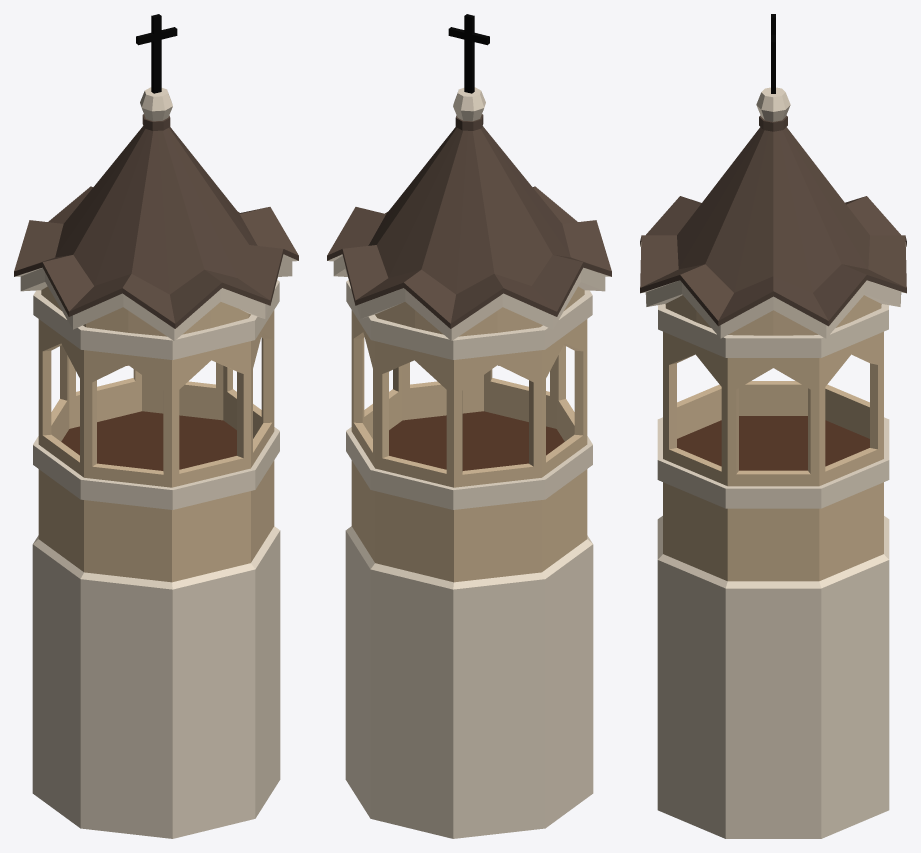
File: ChurchBellTower.glb
The picture shows the model from 3 angles, left to right: view 1: azimuth 30°, elevation 25°; view 2: azimuth 150°, elevation 25°; view 3: azimuth 270°, elevation 25°; orthographic projection.
Parts seen in each view (by area): view 1: ChurchTower; view 2: ChurchTower; view 3: ChurchTower.
Boxes of the visible parts, left/top/right/bottom form: ChurchTower: left=14, top=14, right=298, bottom=838; ChurchTower: left=327, top=14, right=611, bottom=838; ChurchTower: left=640, top=14, right=906, bottom=838.
Size of what is drawn, in the model's own units: 4.83 by 15.48 by 4.83.
Materials: 1 (1 with a texture image).
